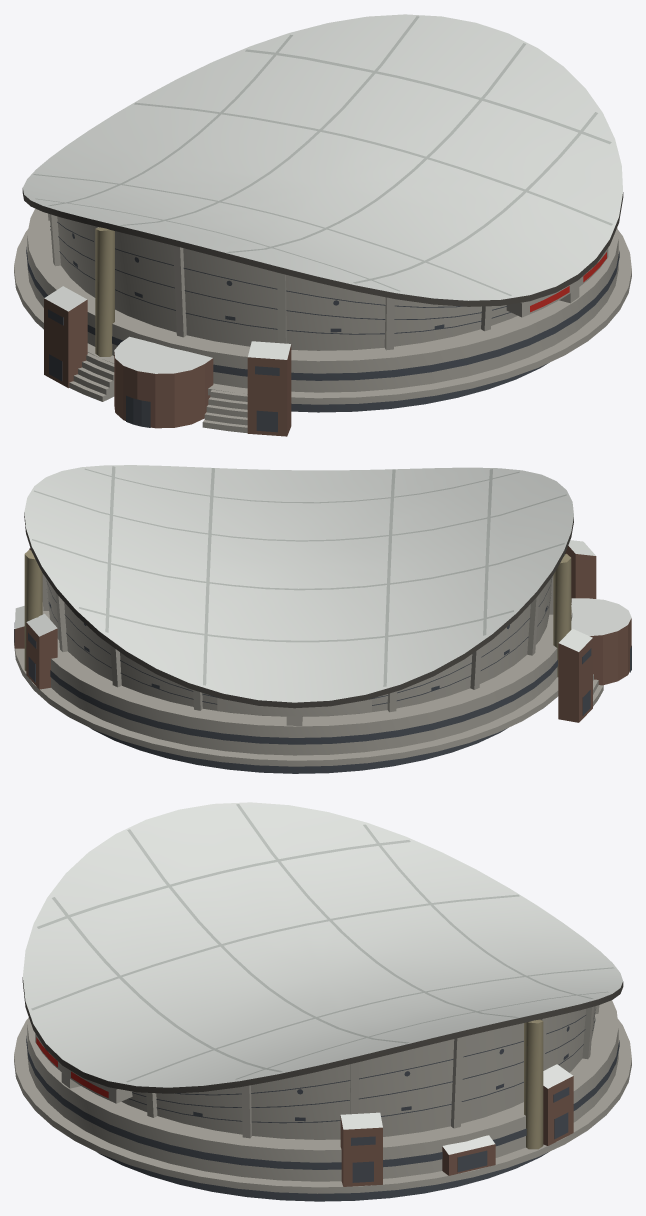
The model's file is scotiabank-saddledome-far.glb.
The picture shows the model from 3 angles, top to bottom: view 1: azimuth 30°, elevation 25°; view 2: azimuth 150°, elevation 25°; view 3: azimuth 270°, elevation 25°; orthographic projection. The views are drawn at different scales.
Parts seen in each view (by area): view 1: scotiabank-saddledome-0-roof, scotiabank-saddledome-0-concrete, scotiabank-saddledome-0-red, scotiabank-saddledome-0-dark, scotiabank-saddledome-0-seam, scotiabank-saddledome-0-glow, scotiabank-saddledome-0-yellow; view 2: scotiabank-saddledome-0-roof, scotiabank-saddledome-0-concrete, scotiabank-saddledome-0-dark, scotiabank-saddledome-0-red, scotiabank-saddledome-0-seam, scotiabank-saddledome-0-glow, scotiabank-saddledome-0-yellow; view 3: scotiabank-saddledome-0-roof, scotiabank-saddledome-0-concrete, scotiabank-saddledome-0-dark, scotiabank-saddledome-0-seam, scotiabank-saddledome-0-red, scotiabank-saddledome-0-glow, scotiabank-saddledome-0-yellow.
Boxes of the visible parts, x1,y1,x2,y2 form: scotiabank-saddledome-0-roof: (23, 14, 622, 373); scotiabank-saddledome-0-concrete: (14, 208, 631, 433); scotiabank-saddledome-0-red: (44, 298, 291, 436); scotiabank-saddledome-0-dark: (26, 222, 619, 432); scotiabank-saddledome-0-seam: (33, 16, 612, 295); scotiabank-saddledome-0-glow: (22, 188, 623, 306); scotiabank-saddledome-0-yellow: (95, 227, 114, 356); scotiabank-saddledome-0-roof: (14, 465, 631, 702); scotiabank-saddledome-0-concrete: (14, 573, 603, 766); scotiabank-saddledome-0-dark: (14, 579, 631, 773); scotiabank-saddledome-0-red: (14, 545, 631, 722); scotiabank-saddledome-0-seam: (32, 466, 566, 686); scotiabank-saddledome-0-glow: (24, 512, 573, 708); scotiabank-saddledome-0-yellow: (24, 550, 571, 677); scotiabank-saddledome-0-roof: (23, 802, 622, 1154); scotiabank-saddledome-0-concrete: (14, 1000, 631, 1193); scotiabank-saddledome-0-dark: (26, 1012, 619, 1201); scotiabank-saddledome-0-seam: (31, 804, 614, 1082); scotiabank-saddledome-0-red: (340, 1076, 573, 1186); scotiabank-saddledome-0-glow: (22, 977, 623, 1093); scotiabank-saddledome-0-yellow: (524, 1019, 543, 1149).
Bounding box in the file's own units: 145 × 40.8 × 139.
